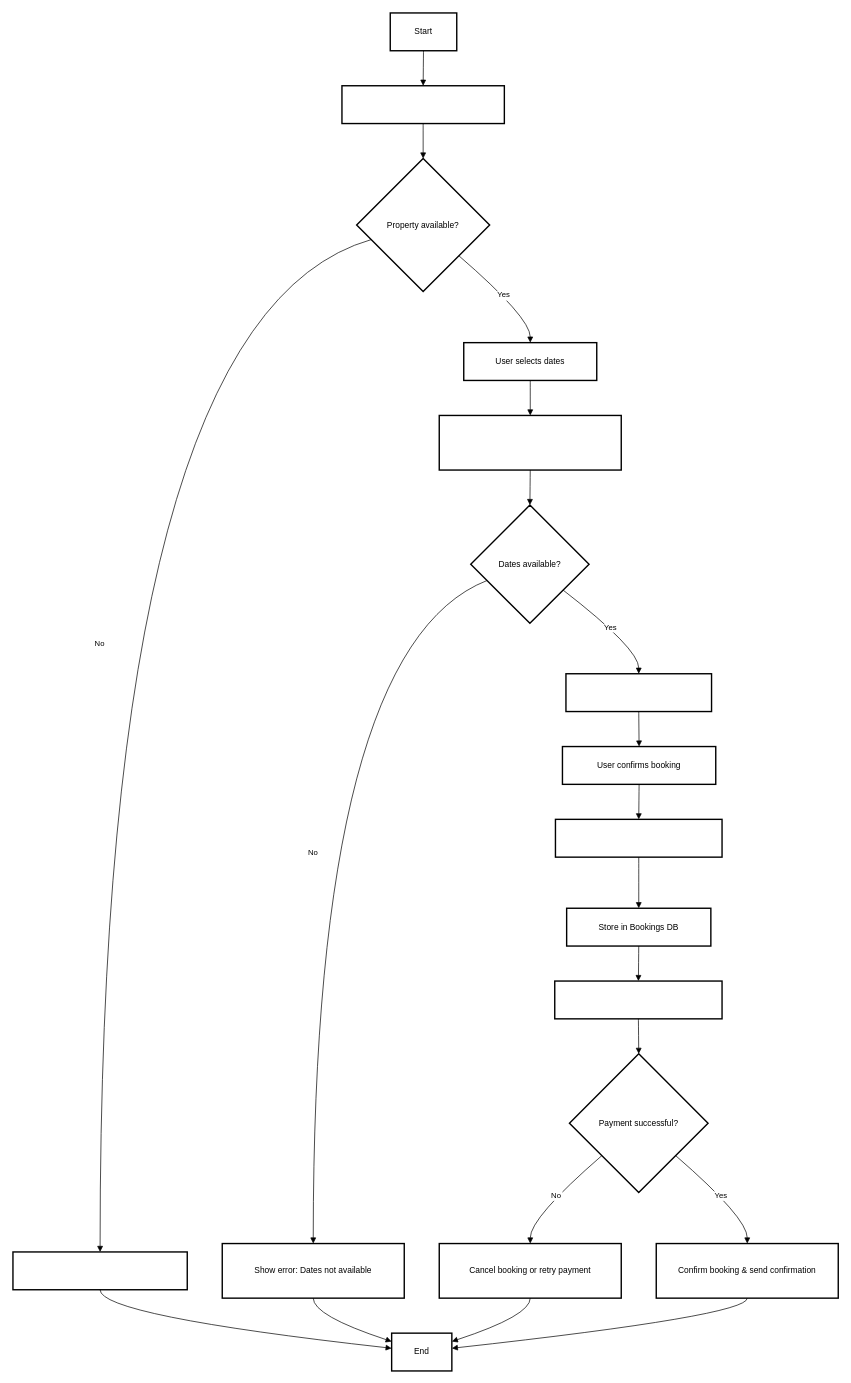
This 851x1383 diagram has some shape labels left out. Each missing label, with the centre of its shape:
Calculate total price: (x=638, y=692)
Check availability for selected dates: (x=530, y=442)
Generate booking record: (x=638, y=838)
Prompt user for payment: (x=638, y=999)
Show unavailable message: (x=100, y=1270)
User browses properties: (x=423, y=104)
